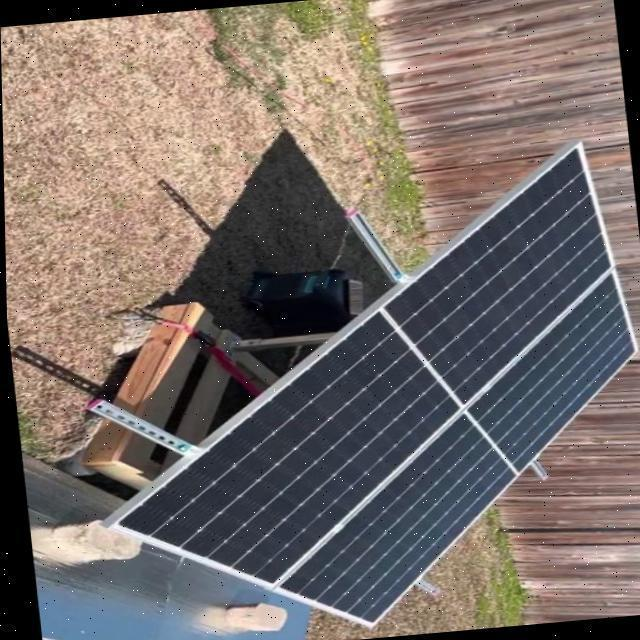Normal Solar Panel: (67, 139, 640, 640)
